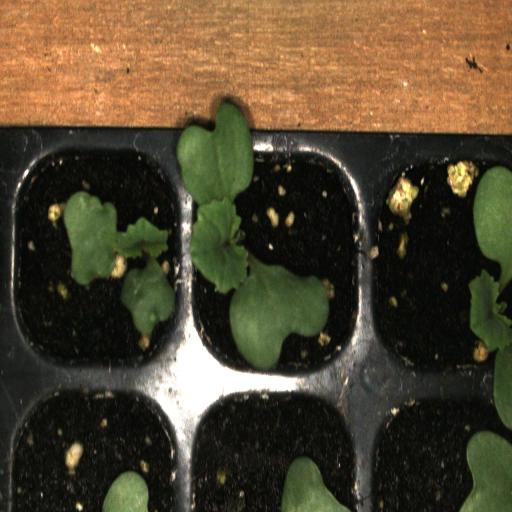Folha: (469, 166, 512, 430), (459, 431, 512, 512), (280, 456, 350, 512), (102, 470, 149, 512)
Germinacao: (8, 136, 189, 388), (186, 146, 366, 385)
